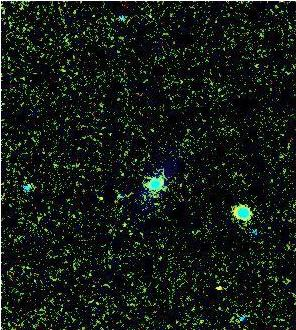star: (206, 273, 236, 303)
